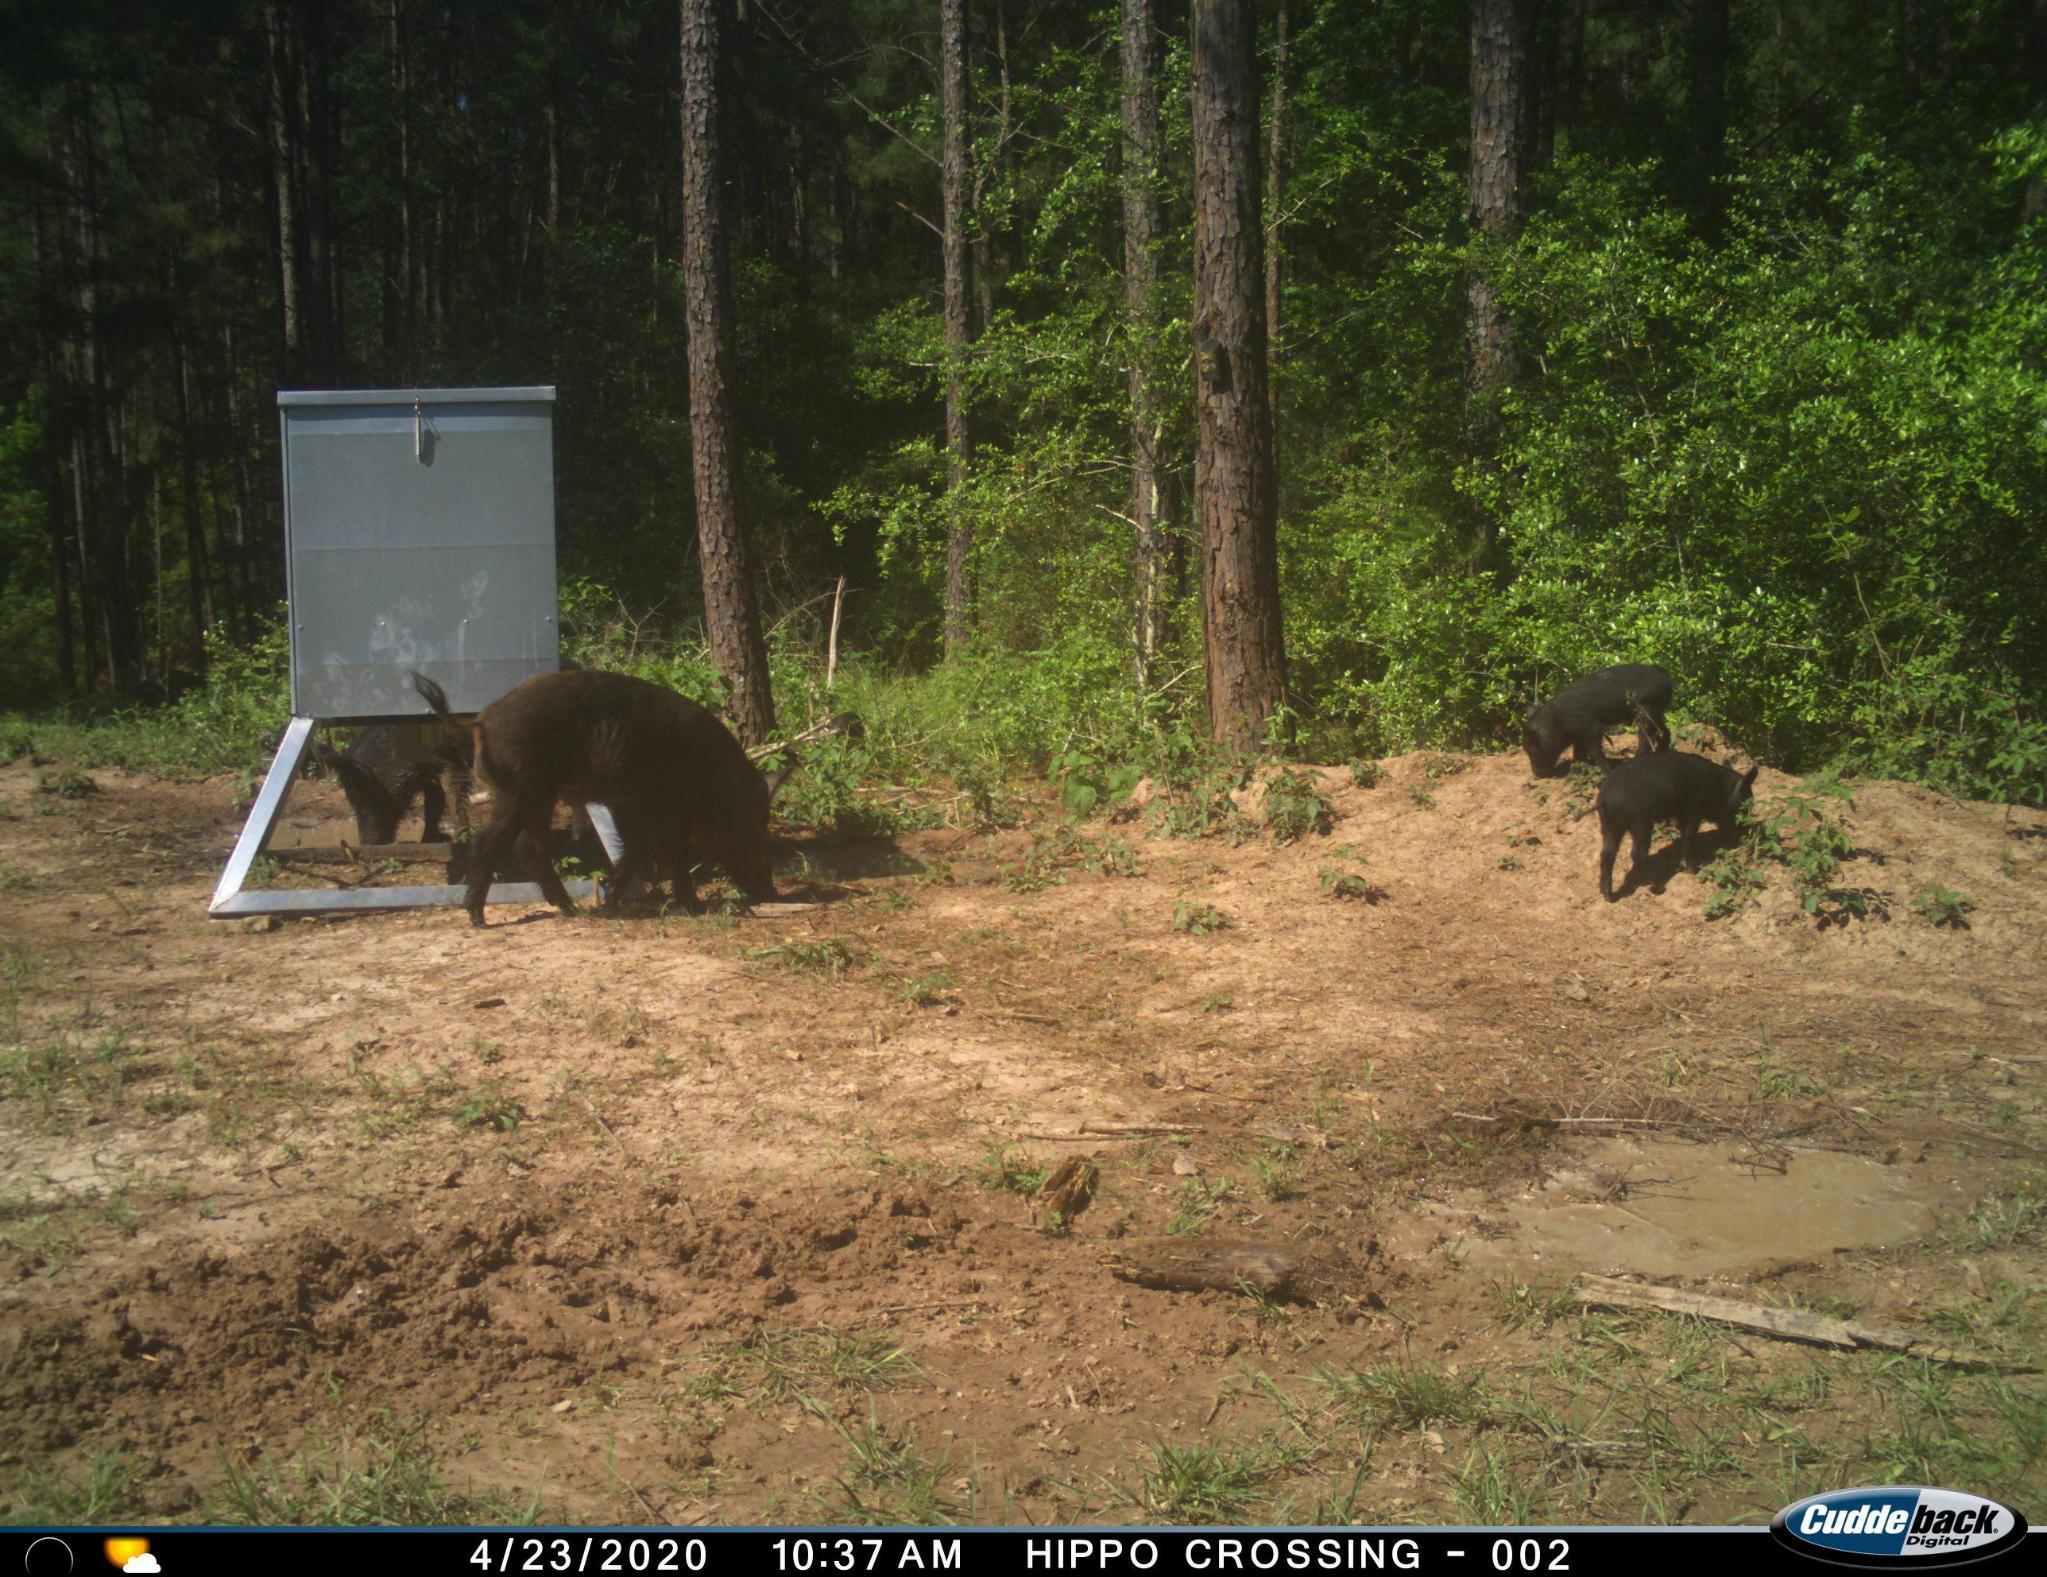Hog: (404, 656, 803, 931), (1598, 745, 1762, 891), (1514, 656, 1683, 790), (315, 717, 487, 843)
